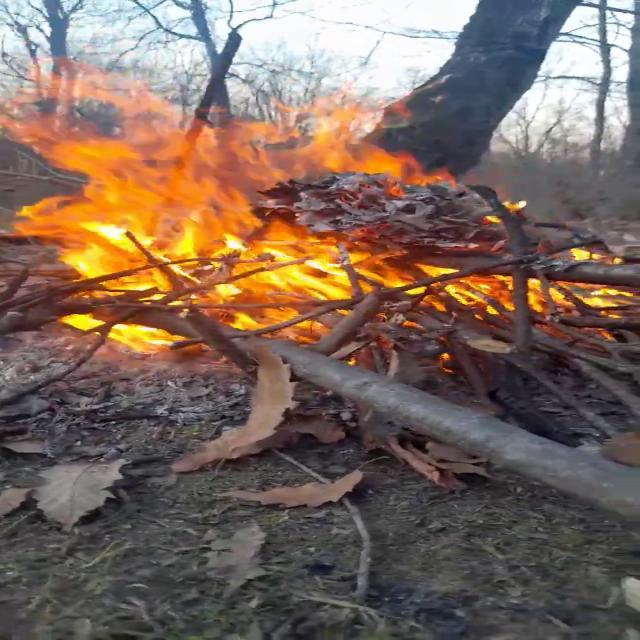Fire: (2, 51, 452, 358)
